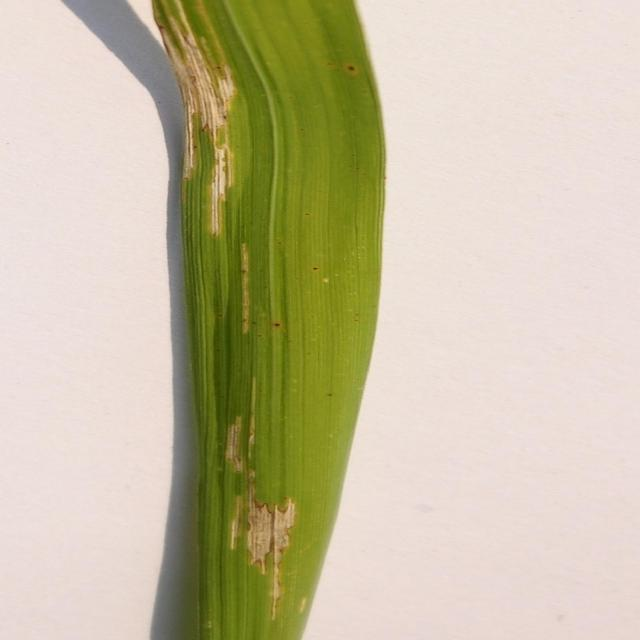leaf blight: (155, 10, 250, 250), (219, 408, 304, 615)
